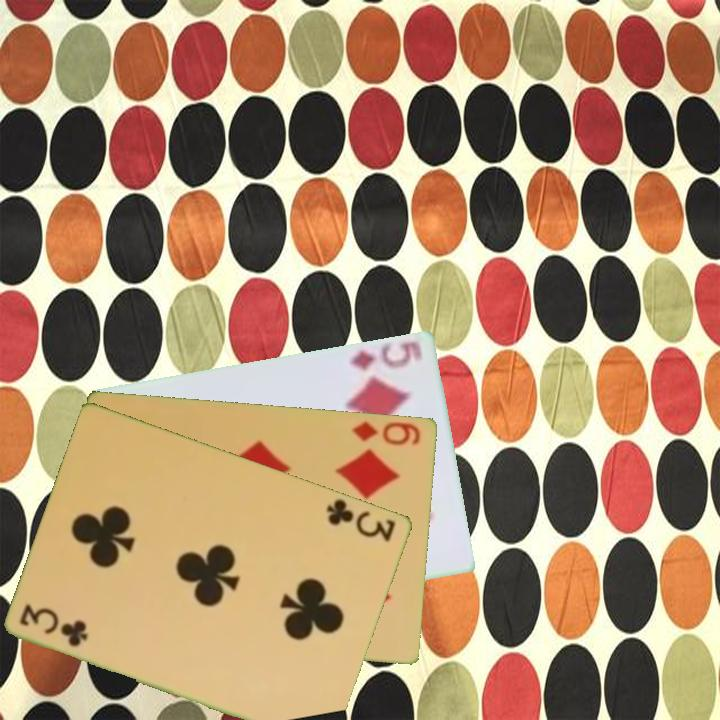3c: (323, 495, 399, 545), (16, 601, 91, 650)
5d: (346, 337, 426, 373)
6d: (349, 417, 424, 448)
